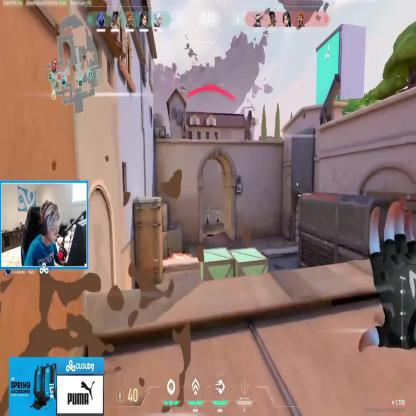enemy: (216, 212, 220, 224), (206, 212, 209, 225)
enemy_head: (217, 212, 219, 217), (207, 211, 208, 215)
